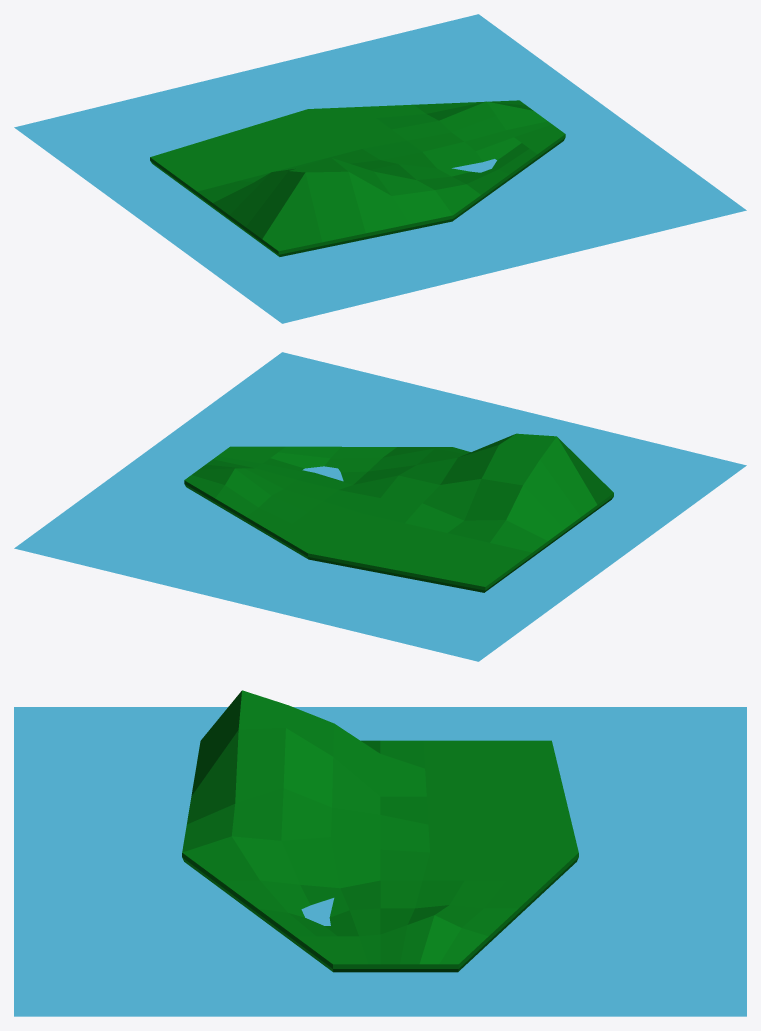
File: 3DProject_TempMap_Ground.fbx
3 views of the same model, one above another, from view 1: azimuth 30°, elevation 25°; view 2: azimuth 150°, elevation 25°; view 3: azimuth 270°, elevation 25° (orthographic). The views are drawn at different scales.
Parts seen in each view (by area): view 1: Plane, Cube; view 2: Plane, Cube; view 3: Plane, Cube.
Boxes of the visible parts, <box> form: Plane: <box>14,14,746,323</box>; Cube: <box>150,100,565,256</box>; Plane: <box>14,352,746,661</box>; Cube: <box>184,433,613,592</box>; Plane: <box>14,707,746,1016</box>; Cube: <box>182,690,578,972</box>.
Bounding box in the file's own units: 27718 × 5505 × 27718.
